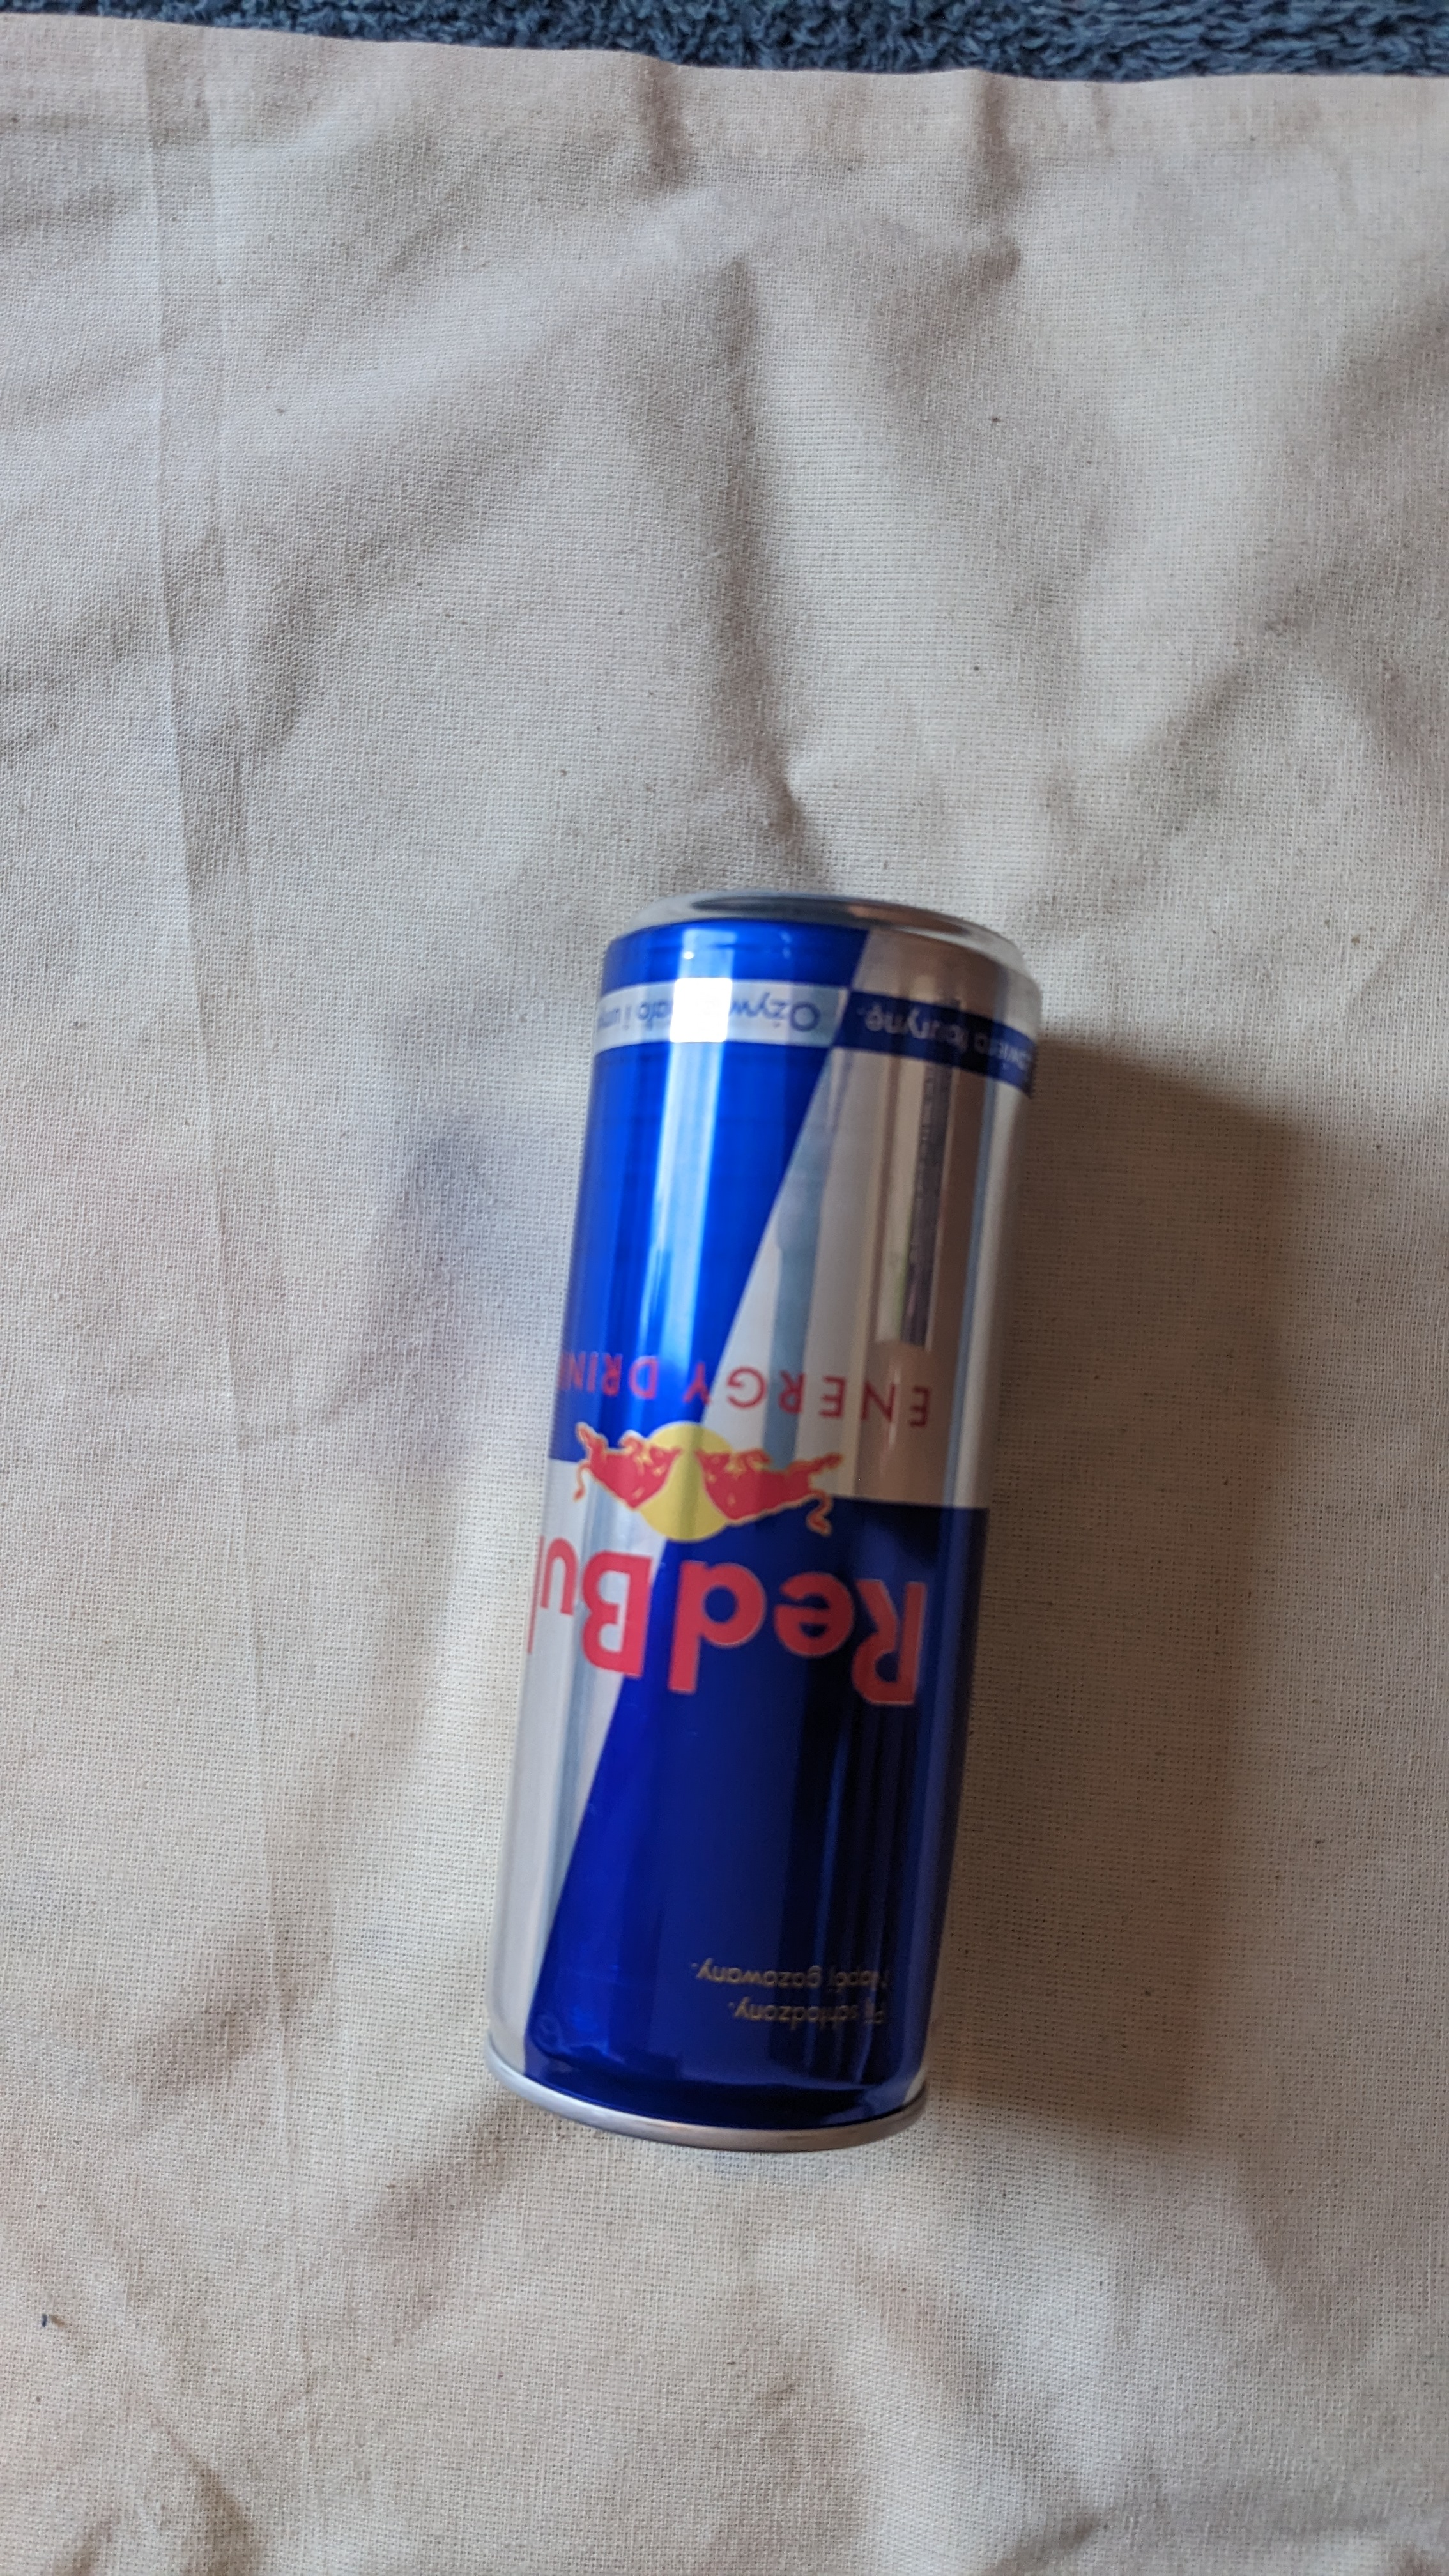red-bull: (513, 890, 1072, 2180)
